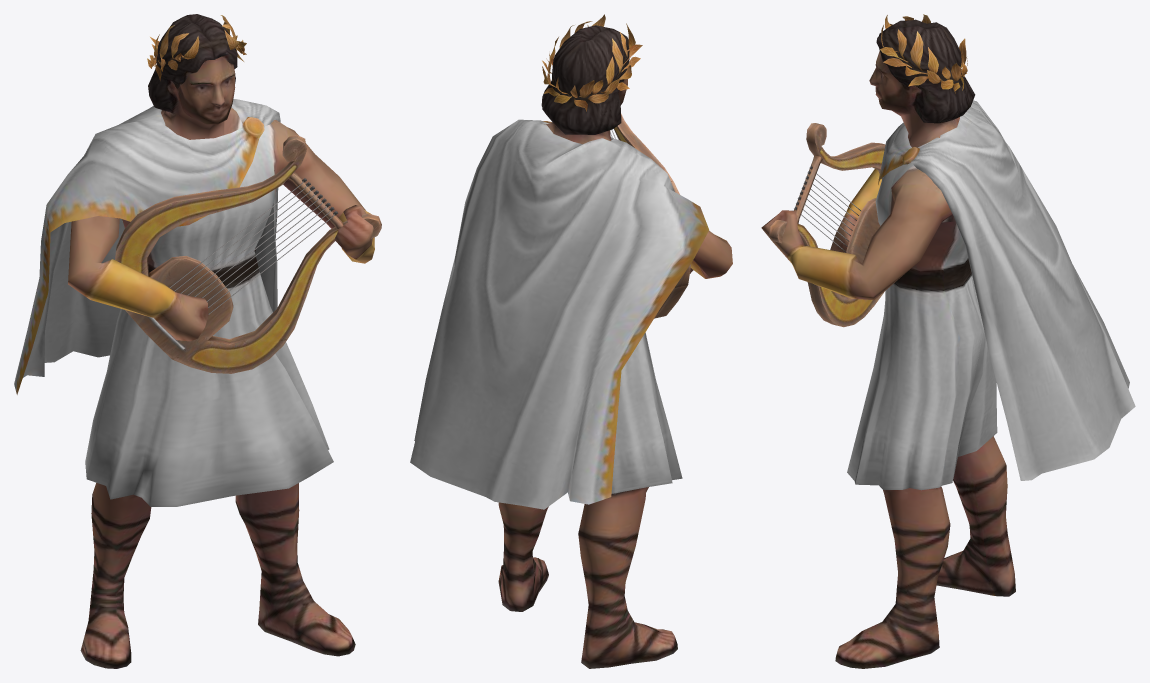
File: 157-orpheus.glb
The picture shows the model from 3 angles, left to right: view 1: azimuth 30°, elevation 25°; view 2: azimuth 150°, elevation 25°; view 3: azimuth 270°, elevation 25°; orthographic projection. The views are drawn at different scales.
Bounding box in the file's own units: 0.965 × 2.07 × 1.19.
2 materials, 2 textured.
